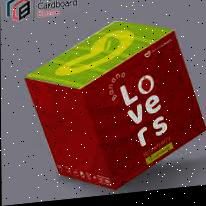cube: (23, 15, 206, 198)
